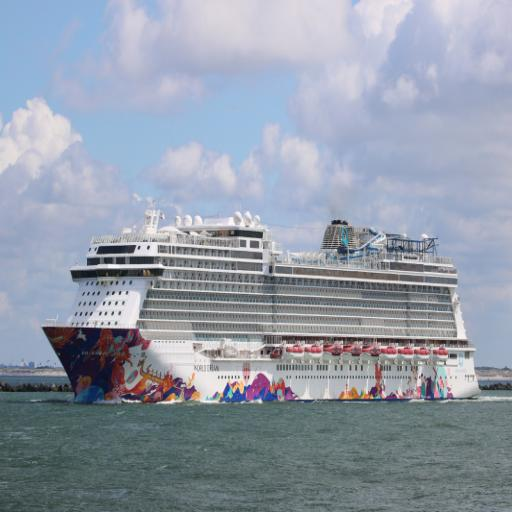cruises: (40, 206, 484, 411)
